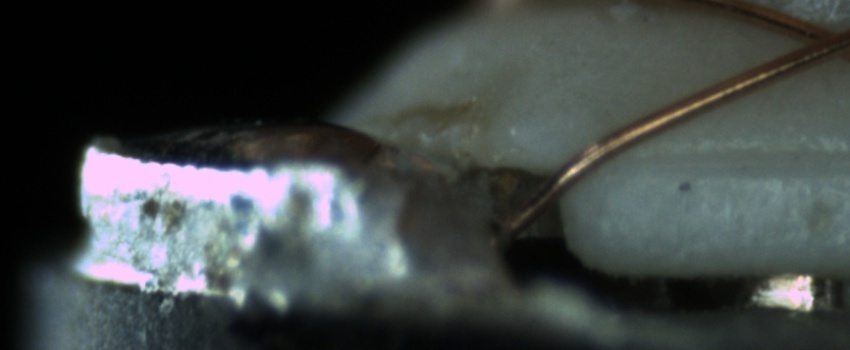CL: (778, 13, 850, 70)
DL: (625, 123, 842, 193)
